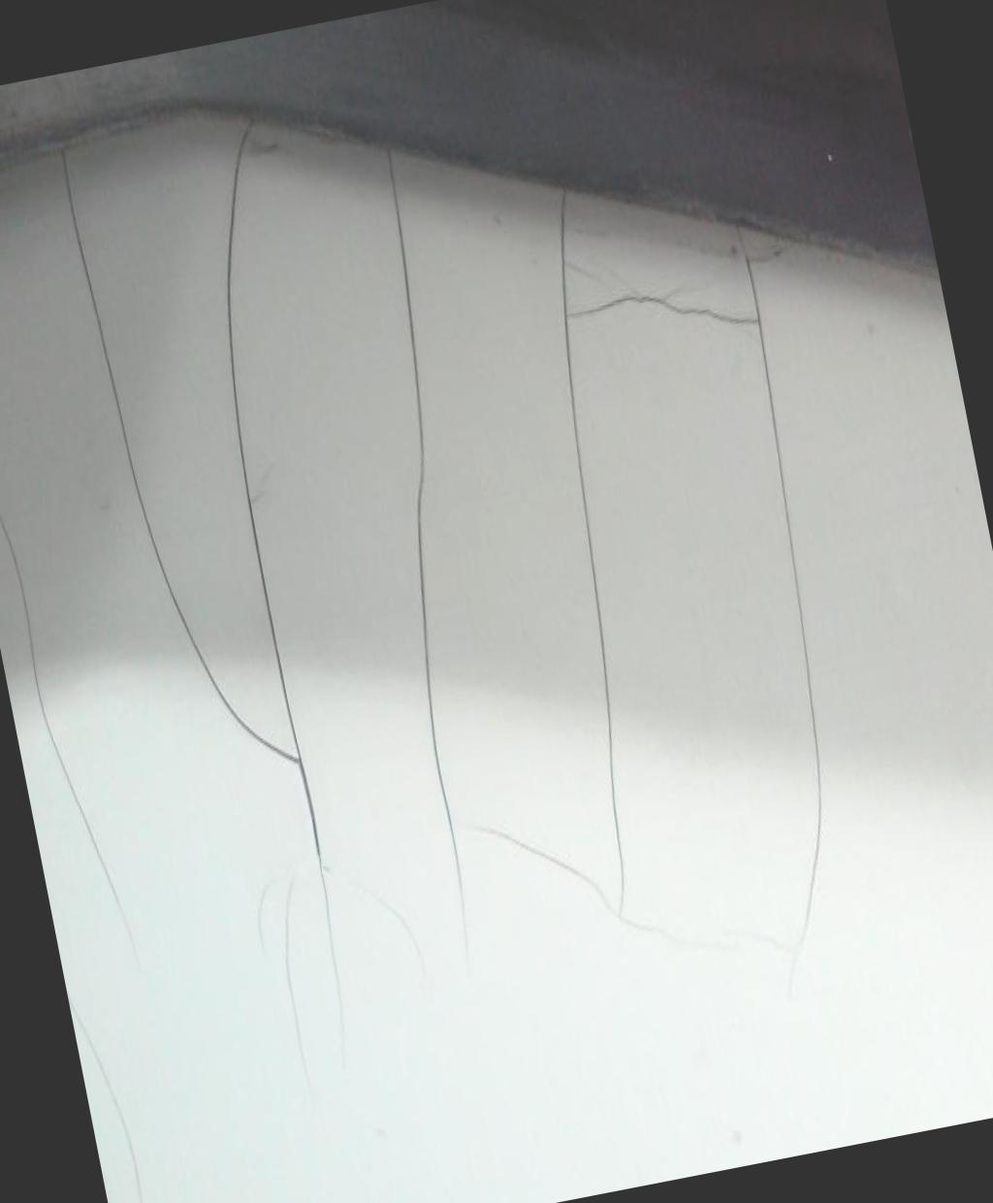crack: (49, 5, 898, 1117)
